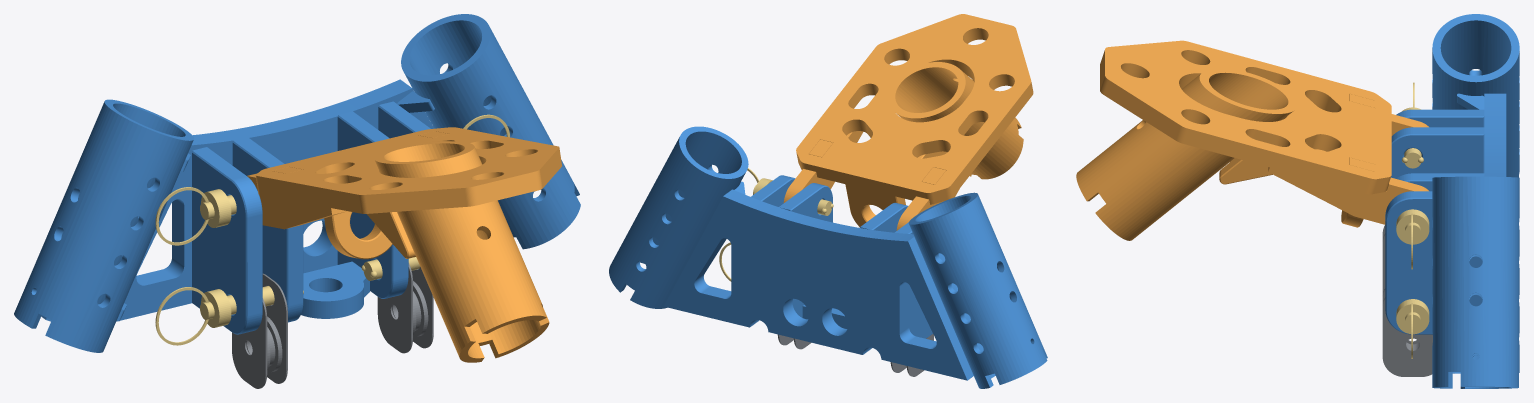
The model's file is cabeza_v10.glb.
The picture shows the model from 3 angles, left to right: view 1: azimuth 30°, elevation 25°; view 2: azimuth 150°, elevation 25°; view 3: azimuth 270°, elevation 25°; orthographic projection. The views are drawn at different scales.
Parts seen in each view (by area): view 1: c_02a, g_06, c_02b, g_05, c_01, c_03a, c_03b, c_PLi, c_03c, c_PLd, c_04, g_07a (+7 smaller); view 2: c_01, g_05, c_02a, c_02b, g_06, c_03c, g_08, g_07b, c_03a, c_03b, g_07a, c_03d (+1 smaller); view 3: g_05, c_02b, g_06, c_02a, c_03d, c_03b, g_07b, c_PLd, c_01, c_03a, c_P-I1d, c_P-I2d (+4 smaller).
Part boxes in pixels (x1,y1,x2,y2): c_02a: (14, 99, 193, 352); g_06: (374, 141, 549, 362); c_02b: (401, 14, 580, 249); g_05: (255, 127, 561, 213); c_01: (116, 79, 433, 321); c_03a: (192, 147, 262, 334); c_03b: (232, 137, 303, 322); c_PLi: (232, 273, 287, 388); c_03c: (337, 111, 408, 298); c_PLd: (377, 263, 433, 353); c_04: (301, 261, 369, 318); g_07a: (247, 167, 347, 229); c_01: (663, 189, 973, 380); g_05: (796, 14, 1033, 204); c_02a: (908, 192, 1047, 388); c_02b: (609, 126, 748, 308); g_06: (888, 62, 1023, 179); c_03c: (779, 183, 832, 317); g_08: (845, 184, 905, 226); g_07b: (783, 131, 863, 202); c_03a: (895, 222, 932, 338); c_03b: (859, 202, 908, 232); g_07a: (896, 167, 959, 230); c_03d: (751, 175, 795, 206); g_05: (1100, 40, 1391, 194); c_02b: (1432, 176, 1519, 388); g_06: (1076, 68, 1297, 240); c_02a: (1432, 14, 1519, 177); c_03d: (1385, 191, 1482, 334); c_03b: (1391, 127, 1484, 178); g_07b: (1268, 157, 1428, 224); c_PLd: (1382, 289, 1432, 376); c_01: (1484, 93, 1506, 176); c_03a: (1396, 109, 1484, 127); c_P-I1d: (1396, 209, 1429, 269); c_P-I2d: (1396, 299, 1429, 358).
Size of the model in its own units: 417 by 223 by 323.
